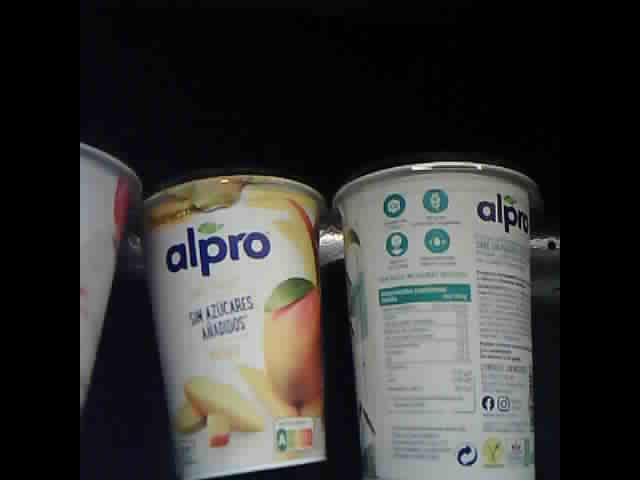alpro: (332, 154, 544, 480), (137, 168, 328, 480), (80, 137, 142, 424)
